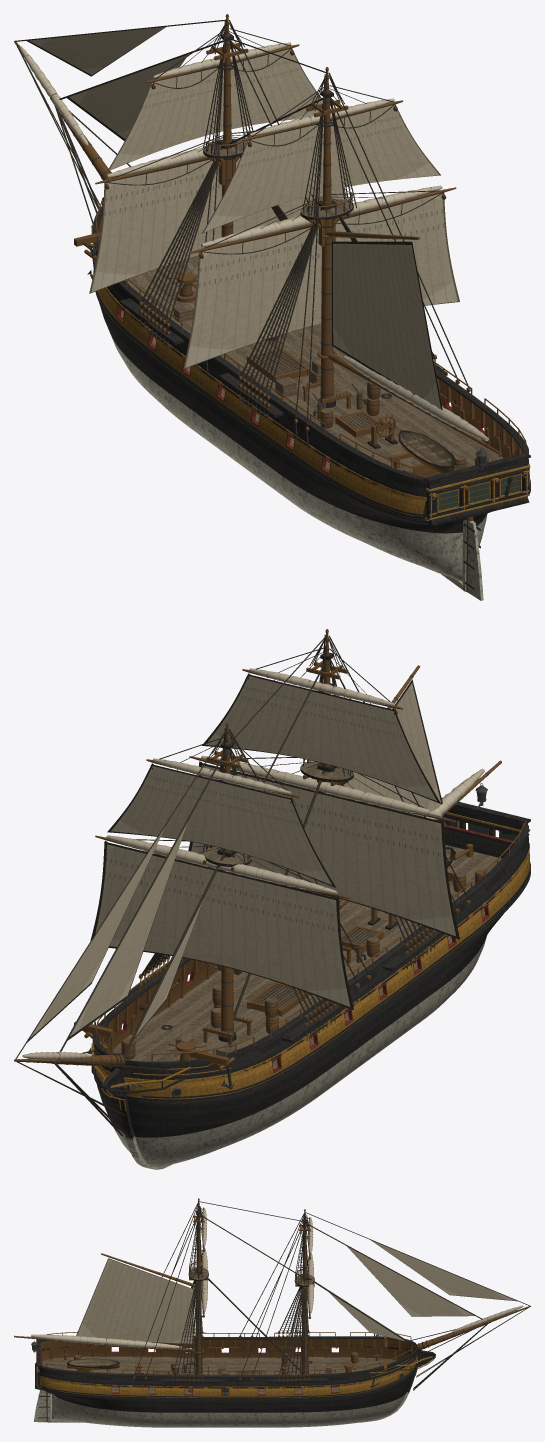
The model's file is brig.glb.
3 views of the same model, one above another, from view 1: azimuth 30°, elevation 25°; view 2: azimuth 150°, elevation 25°; view 3: azimuth 270°, elevation 25° (orthographic). The views are drawn at different scales.
Visible parts, largest first — view 1: hull, sail_1_0, rigging, sail_1_1, sail_spanker, sail_0_0, sail_0_1, deck, deck_details, stern_gallery, sail_jib, mast_1_lower (+24 smaller); view 2: hull, sail_0_0, sail_1_0, sail_1_1, sail_0_1, deck, rigging, deck_details, sail_jib, sail_spanker, bulwark_L_0, sail_flying_jib (+21 smaller); view 3: hull, sail_spanker, rigging, deck, sail_jib, deck_details, sail_flying_jib, bulwark_R_4, bulwark_R_3, bulwark_R_2, bulwark_R_0, sail_furled_boom (+18 smaller).
Boxes of the visible parts, x1,y1,x2,y2 form: hull: [93, 270, 530, 591]; sail_1_0: [183, 193, 459, 369]; rigging: [15, 19, 470, 446]; sail_1_1: [201, 104, 440, 233]; sail_spanker: [332, 241, 442, 409]; sail_0_0: [89, 158, 346, 293]; sail_0_1: [107, 48, 330, 171]; deck: [121, 255, 503, 520]; deck_details: [119, 270, 488, 477]; stern_gallery: [424, 447, 530, 525]; sail_jib: [67, 54, 188, 140]; mast_1_lower: [300, 192, 353, 407]; hull: [94, 825, 530, 1169]; sail_0_0: [90, 841, 353, 1010]; sail_1_0: [188, 762, 459, 939]; sail_1_1: [202, 674, 440, 803]; sail_0_1: [107, 764, 335, 887]; deck: [110, 844, 501, 1069]; rigging: [14, 635, 470, 1137]; deck_details: [121, 847, 487, 1061]; sail_jib: [67, 822, 187, 1040]; sail_spanker: [333, 679, 442, 897]; bulwark_L_0: [123, 1036, 267, 1083]; sail_flying_jib: [27, 826, 165, 1042]; hull: [40, 1347, 420, 1427]; sail_spanker: [76, 1258, 193, 1344]; rigging: [133, 1201, 529, 1390]; deck: [40, 1356, 396, 1393]; sail_jib: [347, 1246, 474, 1316]; deck_details: [62, 1336, 380, 1392]; sail_flying_jib: [370, 1240, 517, 1301]; bulwark_R_4: [39, 1363, 115, 1386]; bulwark_R_3: [111, 1370, 192, 1388]; bulwark_R_2: [191, 1371, 266, 1388]; bulwark_R_0: [343, 1347, 418, 1386]; sail_furled_boom: [30, 1334, 182, 1348].
Bounding box in the file's own units: 14.35 × 20.8 × 43.63.
Materials: 12 (11 with a texture image).
